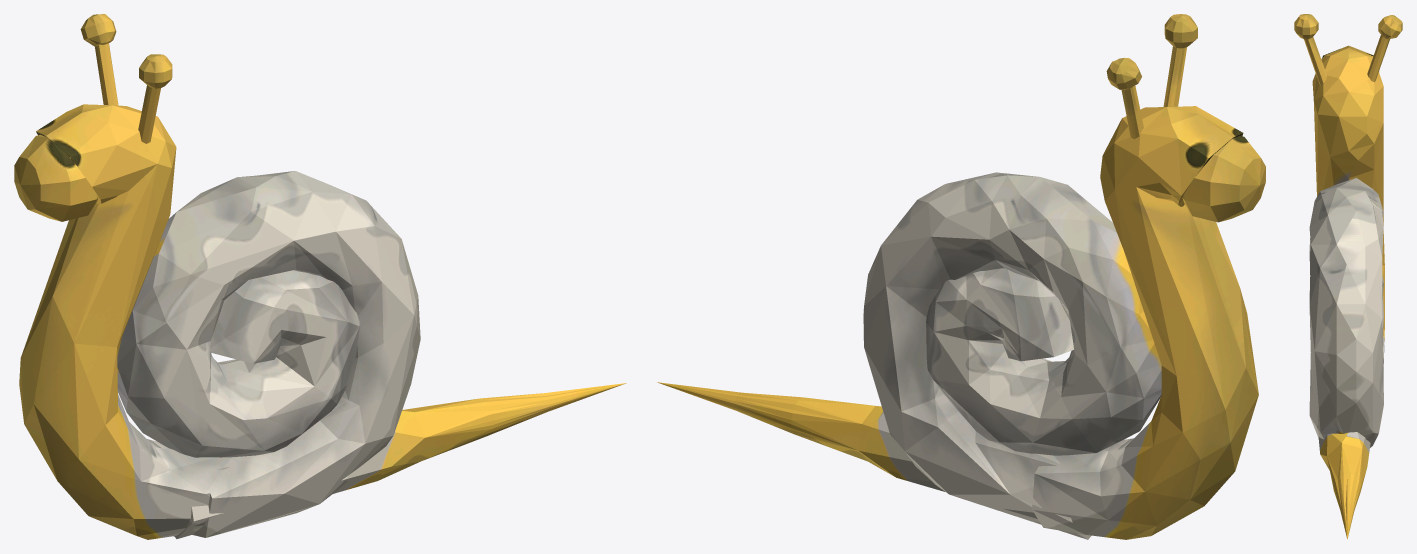
Rendered from Snail.glb.
The picture shows the model from 3 angles, left to right: view 1: azimuth 30°, elevation 25°; view 2: azimuth 150°, elevation 25°; view 3: azimuth 270°, elevation 25°; orthographic projection. The views are drawn at different scales.
Visible parts, largest first — view 1: Snail; view 2: Snail; view 3: Snail.
Part boxes in pixels (left/top/right/bottom): Snail: left=14, top=14, right=626, bottom=539; Snail: left=657, top=14, right=1265, bottom=539; Snail: left=1294, top=14, right=1402, bottom=539.
Bounding box in the file's own units: 424 × 345 × 89.25.
Materials: 1 (1 with a texture image).
